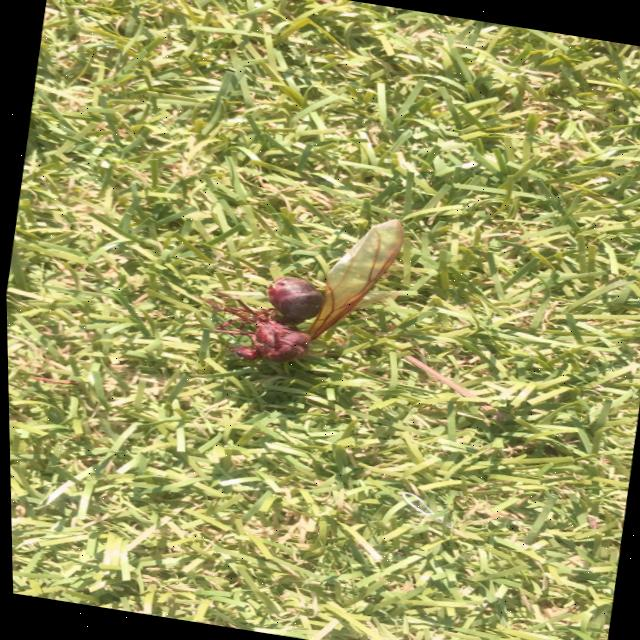Dead-Male-Alate: (182, 189, 409, 382)
